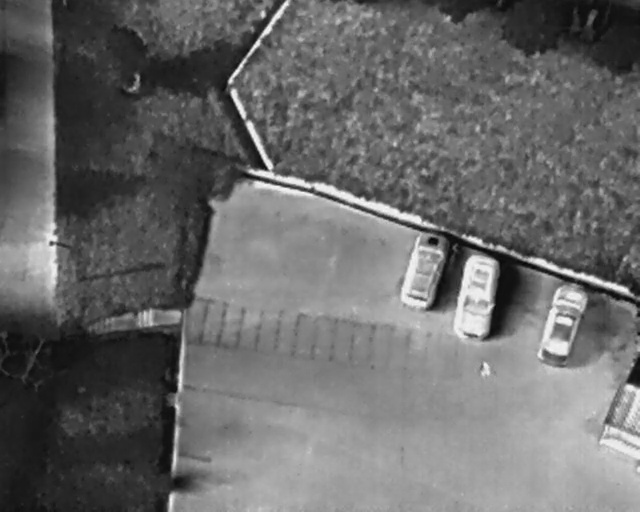Car: (531, 277, 594, 371), (451, 251, 504, 342), (397, 227, 452, 311)
Person: (480, 359, 492, 379)
